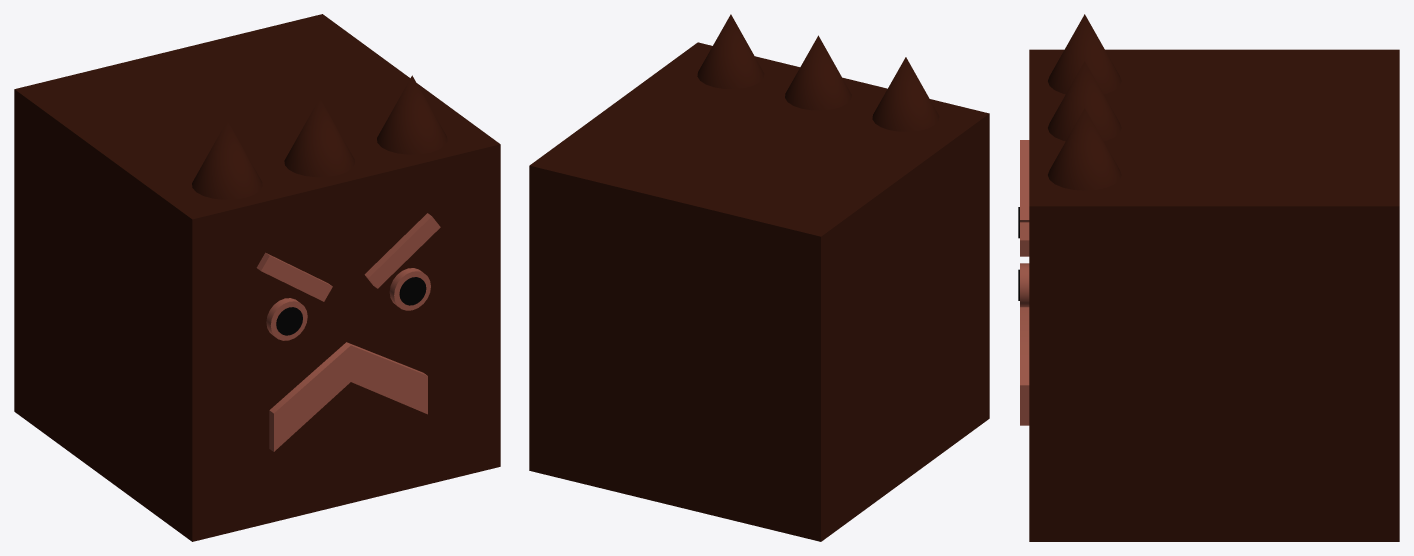
Rendered from StrongEnemy.fbx.
3 views of the same model, side by side, from view 1: azimuth 30°, elevation 25°; view 2: azimuth 150°, elevation 25°; view 3: azimuth 270°, elevation 25° (orthographic). The views are drawn at different scales.
Parts seen in each view (by area): view 1: pCube5; view 2: pCube5; view 3: pCube5.
Part boxes in pixels (x1,y1,x2,y2): pCube5: [14, 14, 500, 541]; pCube5: [529, 14, 989, 541]; pCube5: [1018, 14, 1399, 541].
Bounding box in the file's own units: 10 × 12 × 10.29.
